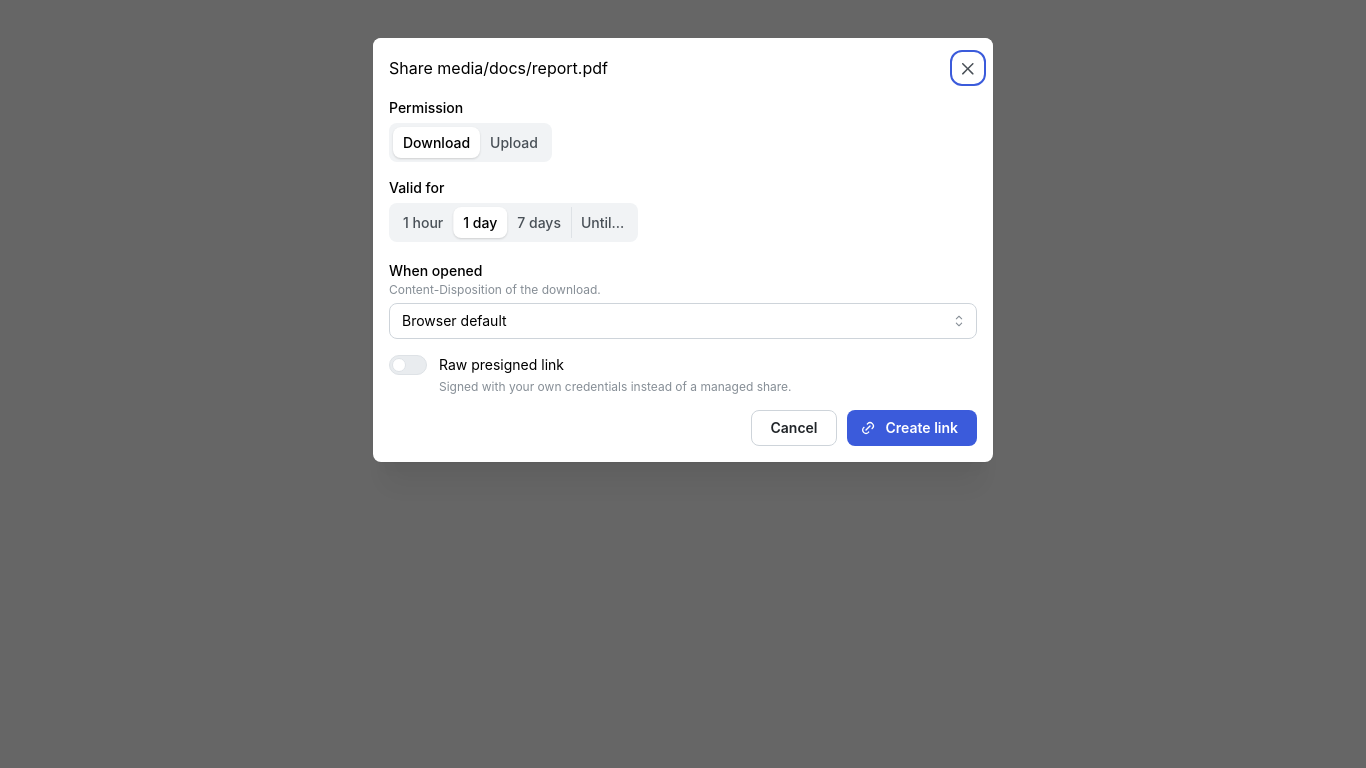
Scenario: ShareDialog (TD-U-10) › refuses a custom expiration beyond 7 days
Click the radio button labelled "Until…" at (603,222), box [581, 214, 624, 231]
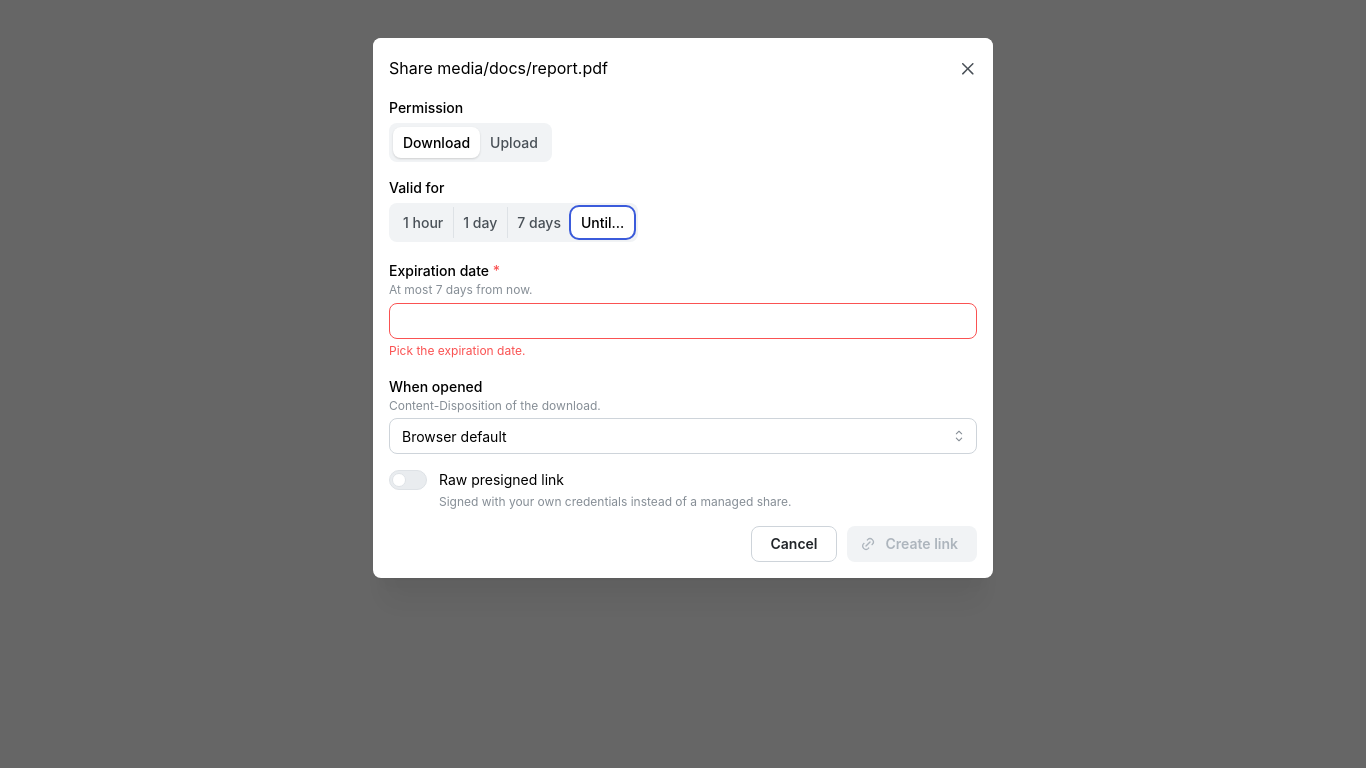
Check: the button "Create link" is disabled, box [846, 526, 977, 562]
Check: the text "Pick the expiration date." is shown, box [389, 342, 525, 358]
Click the button named "Expiration date" below "At most 7 days from now." at (683,320), box [389, 302, 977, 338]
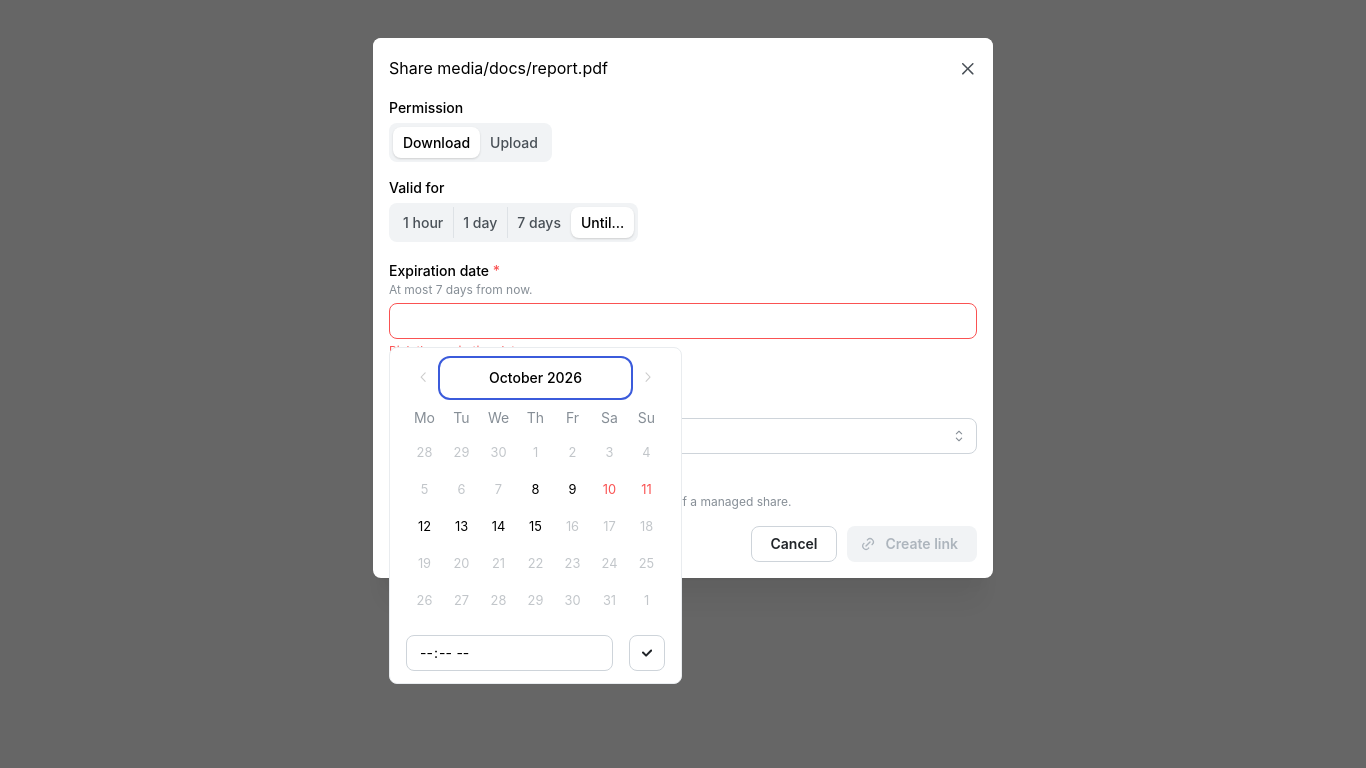
Check: the button named "15 October 2026" is enabled, box [518, 509, 554, 545]
Check: the button named "16 October 2026" is disabled, box [554, 509, 590, 545]
Check: the button named "20 October 2026" is disabled, box [444, 546, 480, 578]
